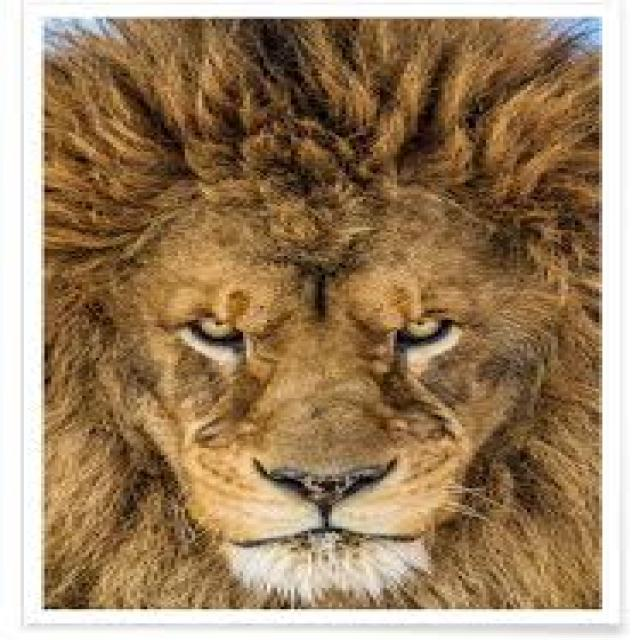Lion: (43, 19, 610, 612)
